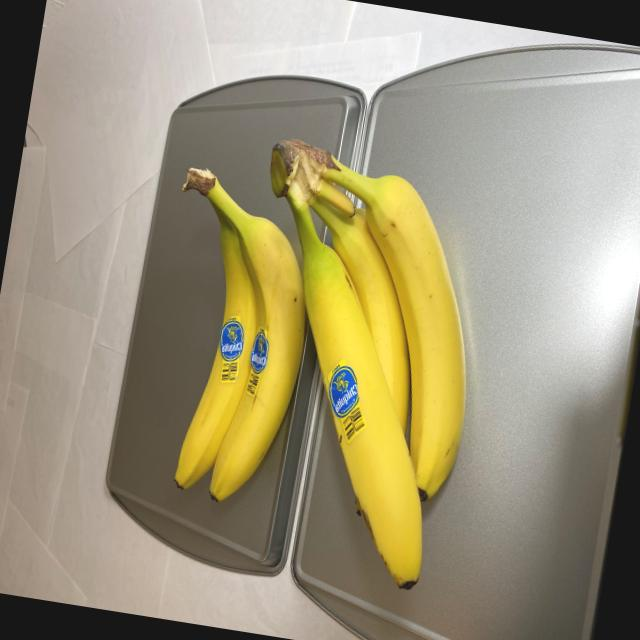banana: (125, 123, 551, 610)
